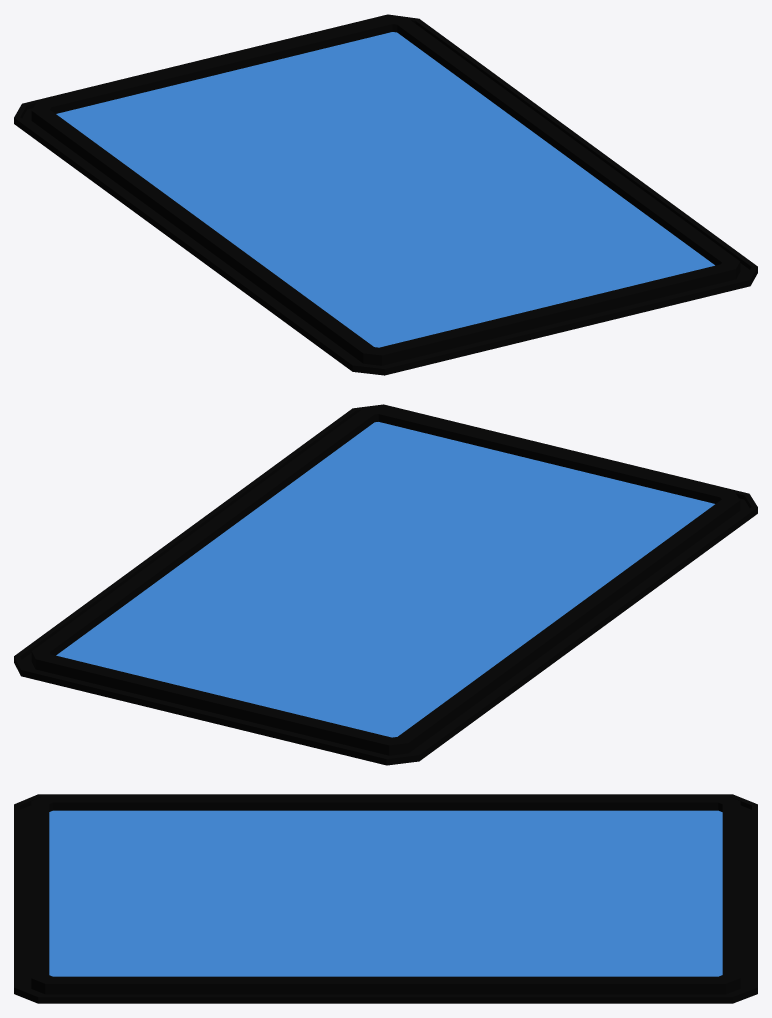
Rendered from Pad.fbx.
The picture shows the model from 3 angles, top to bottom: view 1: azimuth 30°, elevation 25°; view 2: azimuth 150°, elevation 25°; view 3: azimuth 270°, elevation 25°; orthographic projection. The views are drawn at different scales.
Visible parts, largest first — view 1: Tablett; view 2: Tablett; view 3: Tablett.
Boxes of the visible parts, x1,y1,x2,y2 form: Tablett: [14, 14, 757, 375]; Tablett: [14, 404, 757, 765]; Tablett: [14, 794, 757, 1003].
Bounding box in the file's own units: 2000 × 58.35 × 3100.
